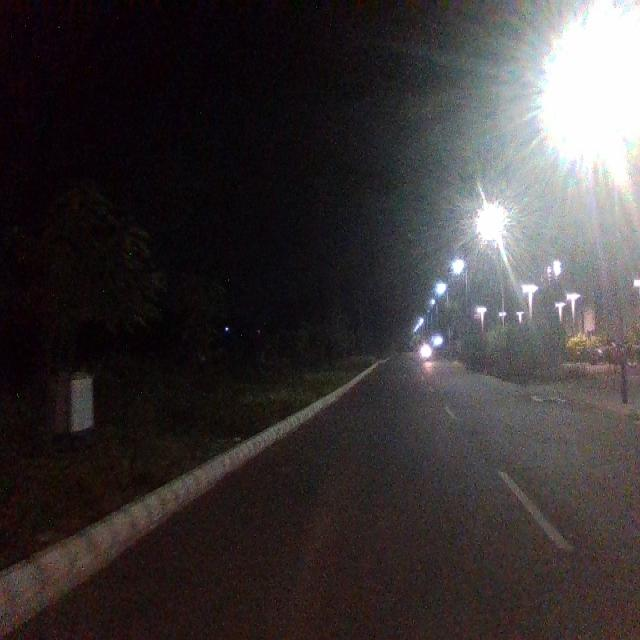lane: (5, 362, 628, 640)
